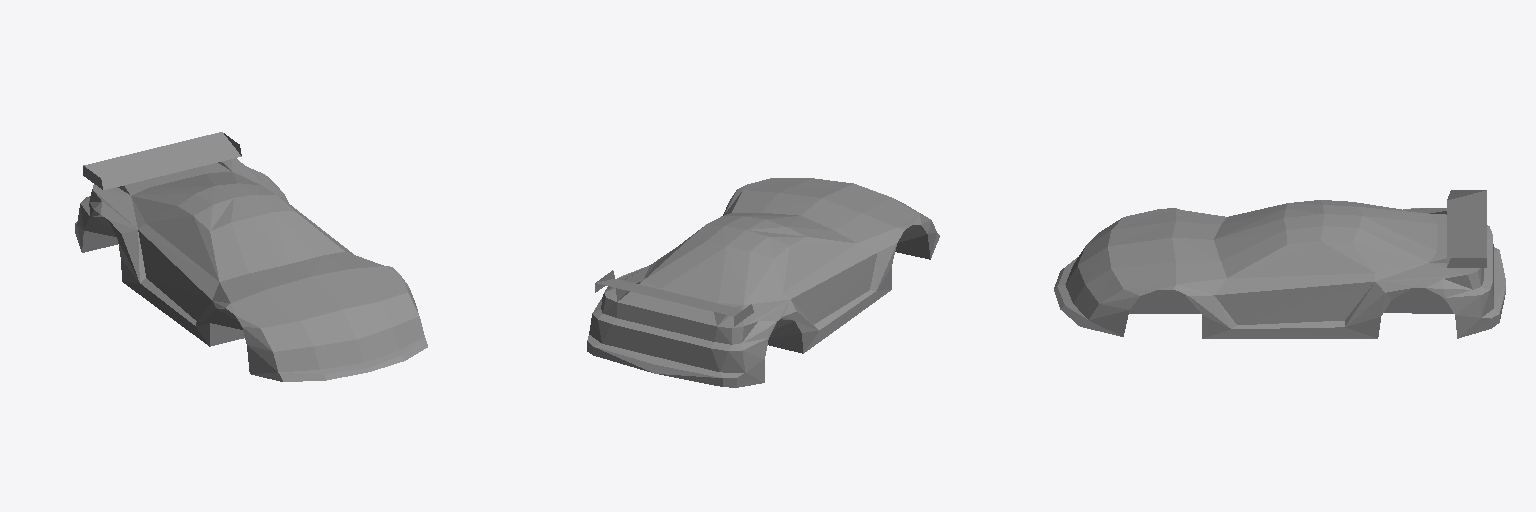
3 views of the same model, side by side, from view 1: azimuth 30°, elevation 25°; view 2: azimuth 150°, elevation 25°; view 3: azimuth 270°, elevation 25° (orthographic).
Visible parts, largest first — view 1: body_prm0; view 2: body_prm0; view 3: body_prm0.
Boxes of the visible parts, <box> form: body_prm0: <box>75,132,427,381</box>; body_prm0: <box>587,178,939,387</box>; body_prm0: <box>1054,190,1505,338</box>.
Bounding box in the file's own units: 1.82 × 0.8559 × 4.17.